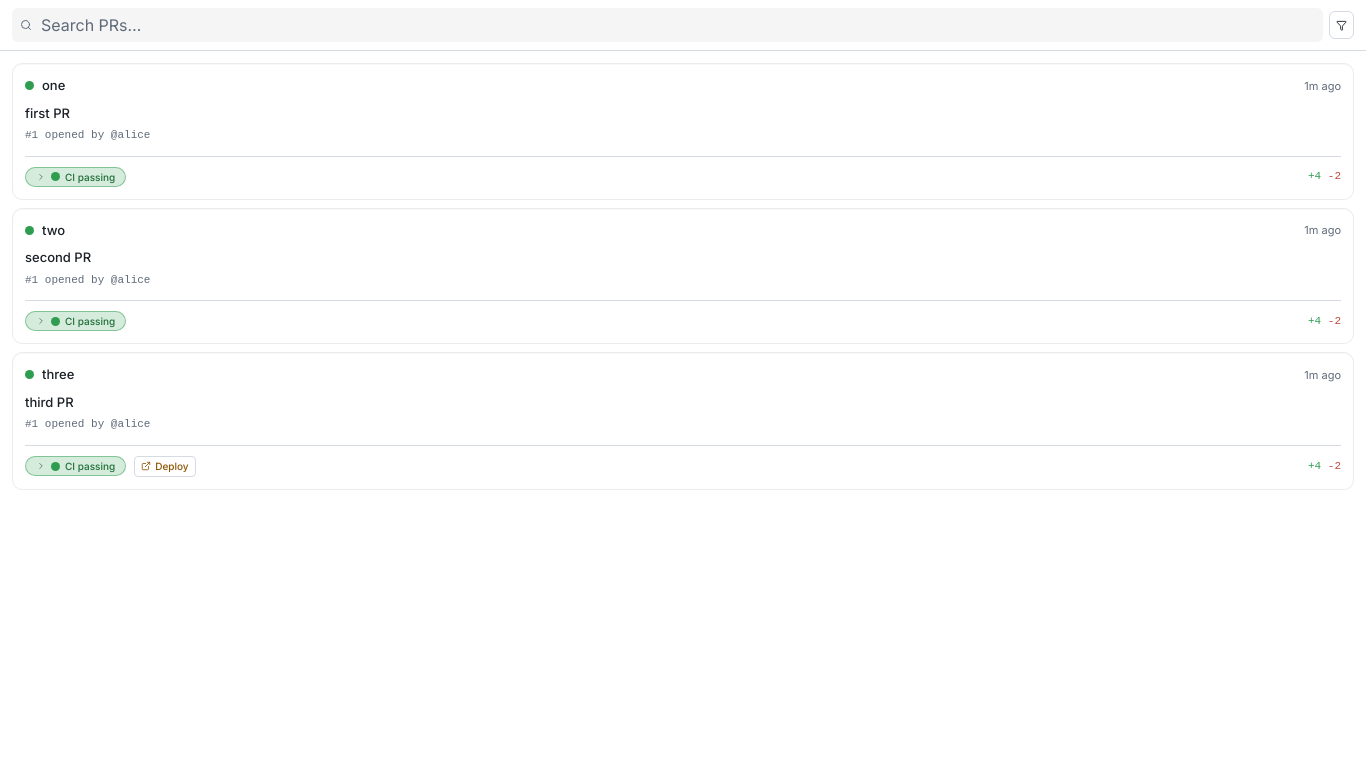
Test: ListView › keyboard navigation › clicking the help backdrop while filter is open closes ONLY help
Open filter, then help on top.
Type keys "/"
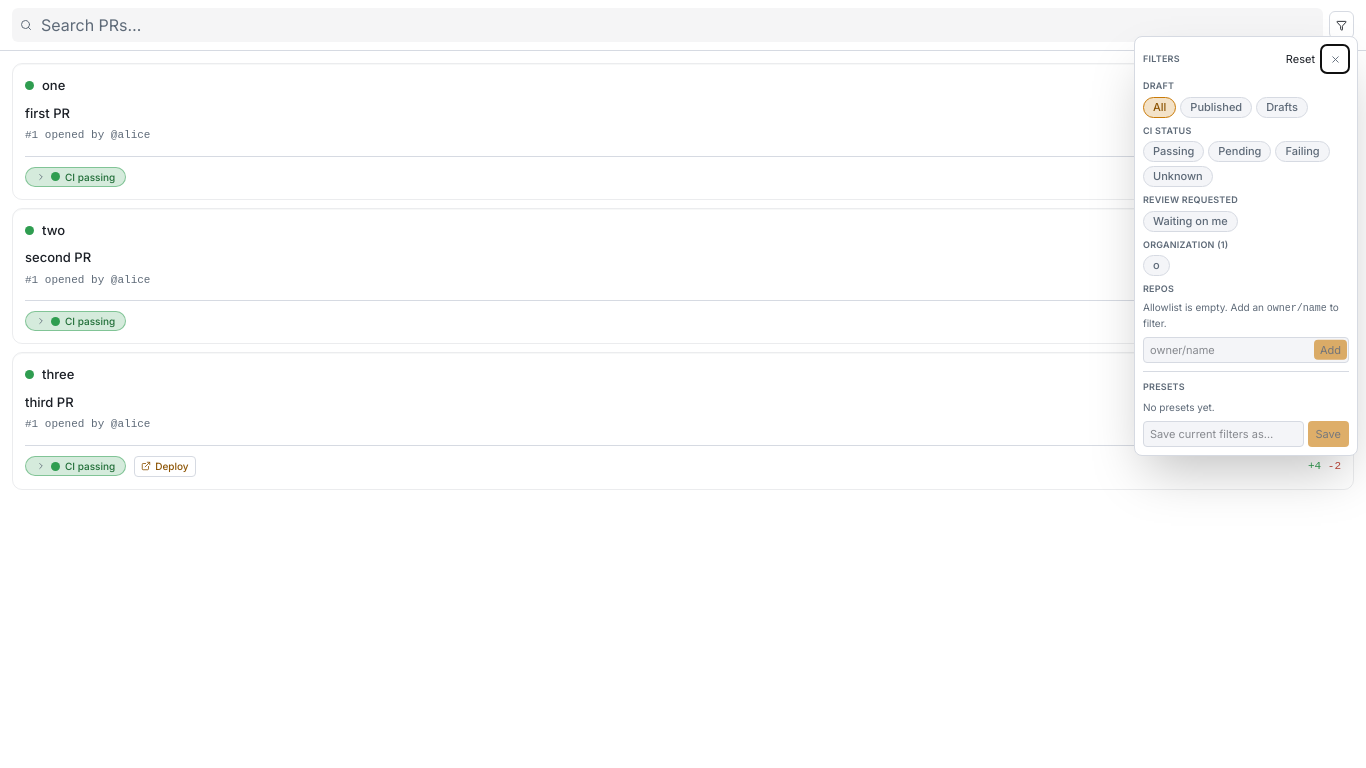
Type keys "?"
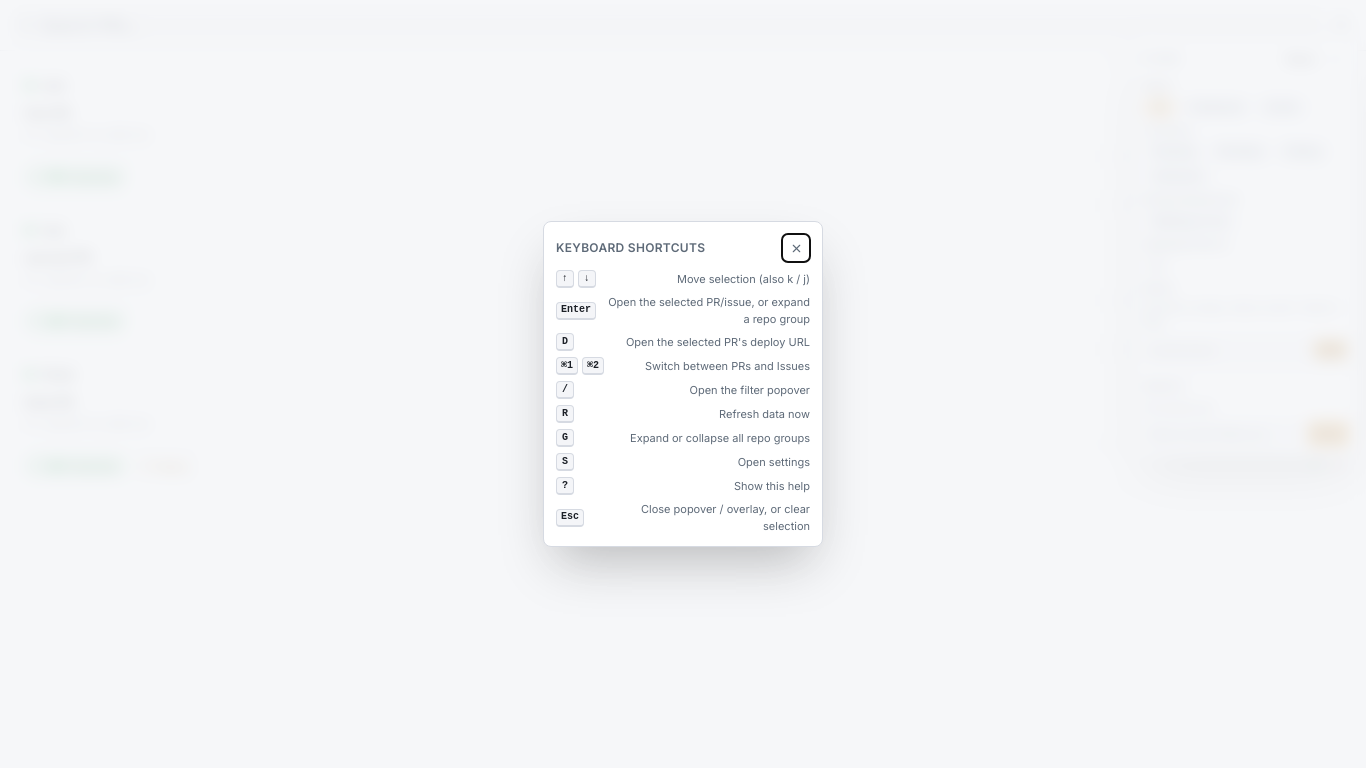
Check: the dialog with test id "keybind-help" is shown, box [543,221,823,547]
Click the element with test id "keybind-help-backdrop": click(82, 384) [0,0,1365,767]
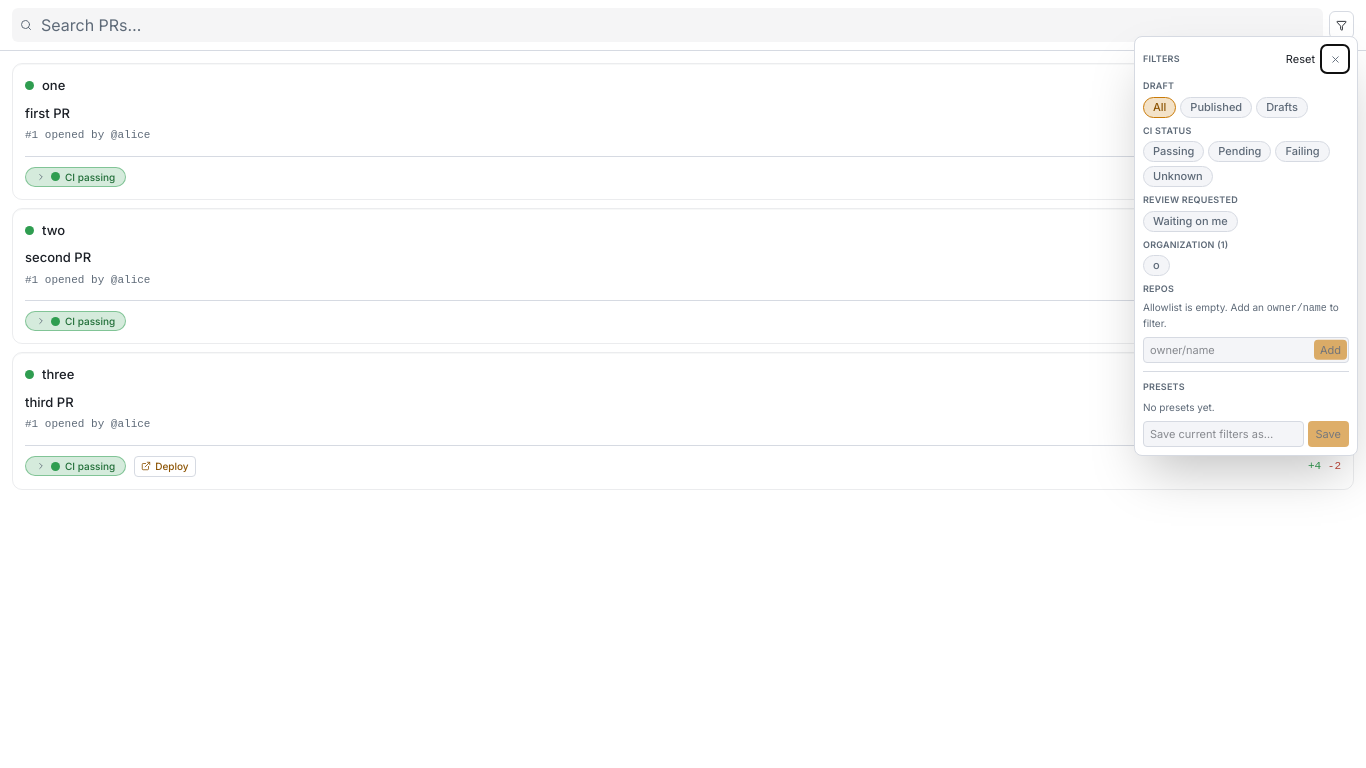
Check: the field with placeholder "Save current filters as…" is shown, box [1143,420,1304,447]
Check: the dialog with test id "keybind-help" is gone
